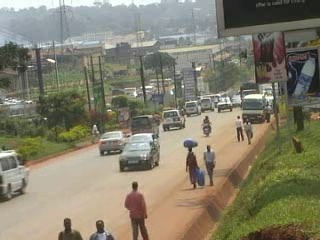Car: (118, 140, 159, 171), (97, 128, 130, 158), (126, 132, 161, 156), (161, 109, 187, 133), (216, 96, 233, 115), (232, 95, 242, 109)
Motorcycle: (200, 122, 213, 138)
